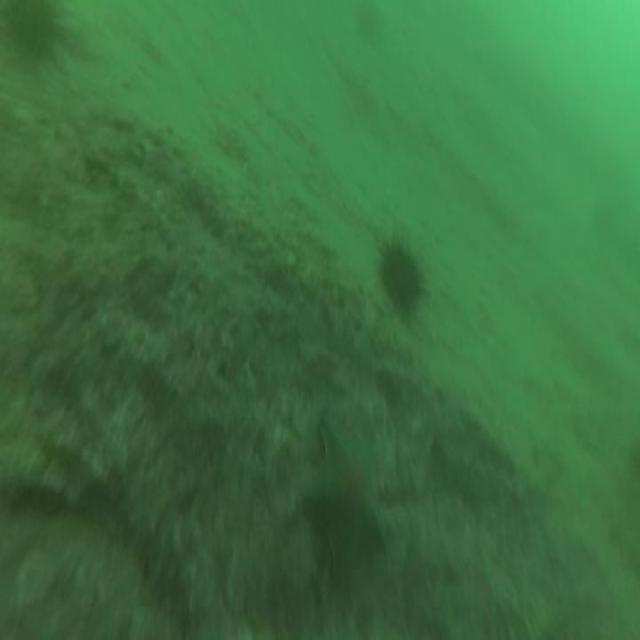echinus: (382, 244, 422, 308)
starfish: (300, 422, 388, 569)
